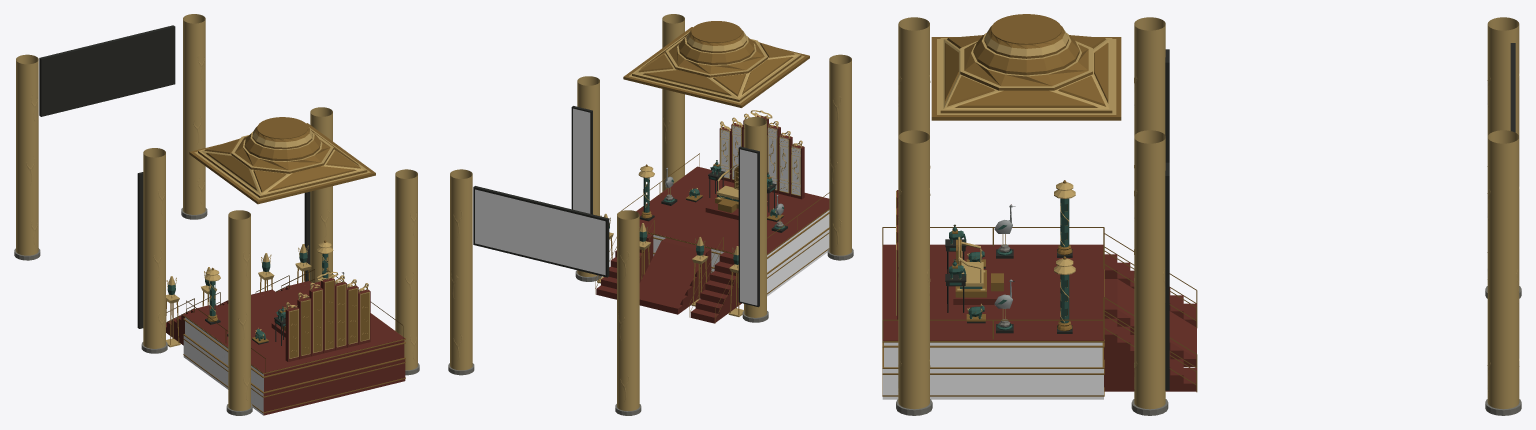
File: taihe-hanging-fit-b032ccb094e0.glb
The picture shows the model from 3 angles, left to right: view 1: azimuth 30°, elevation 25°; view 2: azimuth 150°, elevation 25°; view 3: azimuth 270°, elevation 25°; orthographic projection. The views are drawn at different scales.
Visible parts, largest first — view 1: merged_taihe_gold, merged_taihe_dark_gold, merged_taihe_lacquer, merged_taihe_dark_wood, merged_taihe_glyph_atlas, throne_blue_waist, merged_taihe_stone; view 2: merged_taihe_gold, merged_taihe_glyph_atlas, merged_taihe_lacquer, merged_taihe_dark_gold, merged_taihe_dark_wood, throne_blue_waist, merged_taihe_stone; view 3: merged_taihe_gold, merged_taihe_lacquer, merged_taihe_dark_gold, merged_taihe_glyph_atlas, merged_taihe_dark_wood, throne_blue_waist, merged_taihe_stone.
Part boxes in pixels (left/top/right/bottom): merged_taihe_gold: left=16, top=14, right=417, bottom=410; merged_taihe_dark_gold: left=166, top=117, right=405, bottom=413; merged_taihe_lacquer: left=166, top=272, right=405, bottom=415; merged_taihe_dark_wood: left=39, top=25, right=342, bottom=345; merged_taihe_glyph_atlas: left=183, top=317, right=263, bottom=415; throne_blue_waist: left=167, top=251, right=328, bottom=340; merged_taihe_stone: left=14, top=208, right=419, bottom=415; merged_taihe_gold: left=450, top=14, right=851, bottom=410; merged_taihe_glyph_atlas: left=475, top=108, right=829, bottom=305; merged_taihe_lacquer: left=596, top=115, right=829, bottom=323; merged_taihe_dark_gold: left=595, top=21, right=829, bottom=323; merged_taihe_dark_wood: left=473, top=106, right=787, bottom=307; throne_blue_waist: left=609, top=160, right=785, bottom=264; merged_taihe_stone: left=448, top=194, right=853, bottom=415; merged_taihe_gold: left=896, top=17, right=1519, bottom=409; merged_taihe_lacquer: left=882, top=190, right=1196, bottom=391; merged_taihe_dark_gold: left=882, top=14, right=1197, bottom=396; merged_taihe_glyph_atlas: left=882, top=342, right=1103, bottom=399; merged_taihe_dark_wood: left=945, top=43, right=1515, bottom=390; throne_blue_waist: left=949, top=198, right=1069, bottom=330; merged_taihe_stone: left=896, top=244, right=1521, bottom=415.
Bounding box in the file's own units: 9.63 × 11.27 × 20.25.
